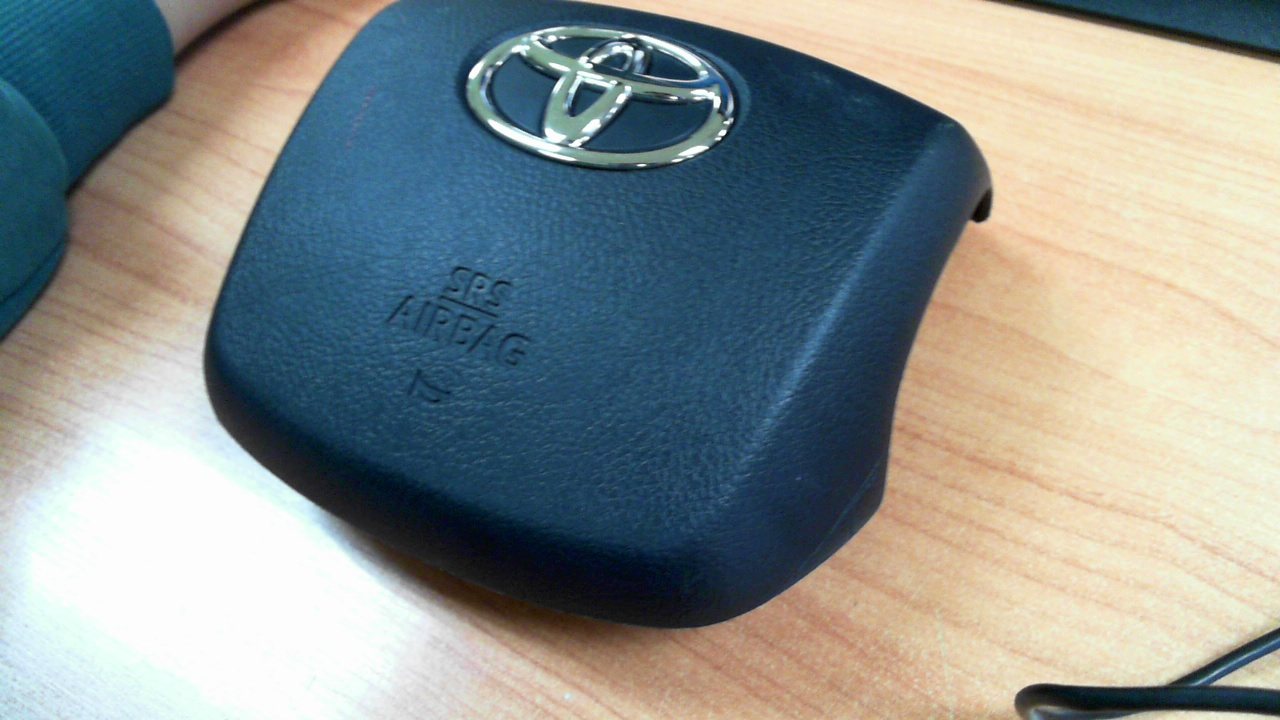Airbag: (200, 1, 992, 628)
Toyota: (466, 25, 735, 169)
